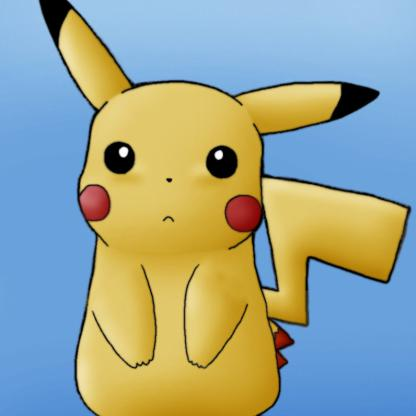Pikachu: (20, 1, 415, 416)
